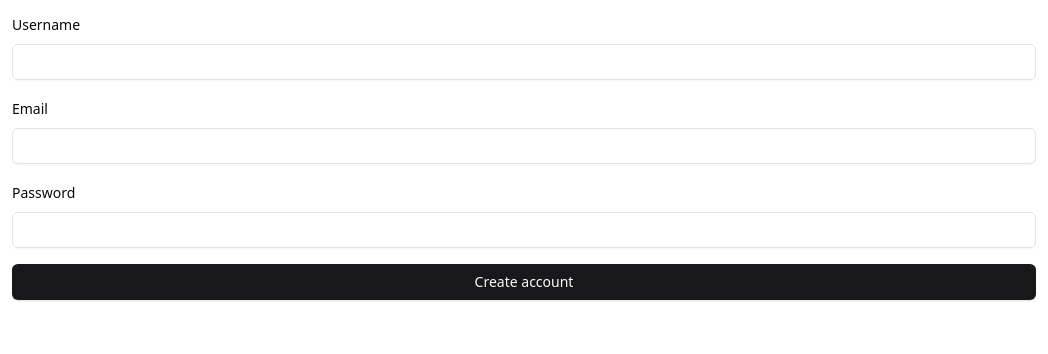
RegisterForm › shows the API error when the username is taken
Step 1. Type "taken-user" into the field labelled "Username" → point(524, 62), box 12,44 -> 1036,80
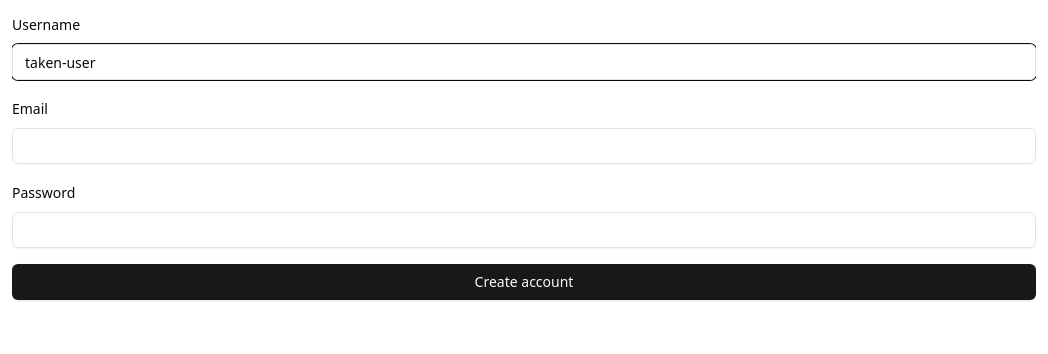
Step 2. Type "new@example.com" into the field labelled "Email" → point(524, 146), box 12,128 -> 1036,164
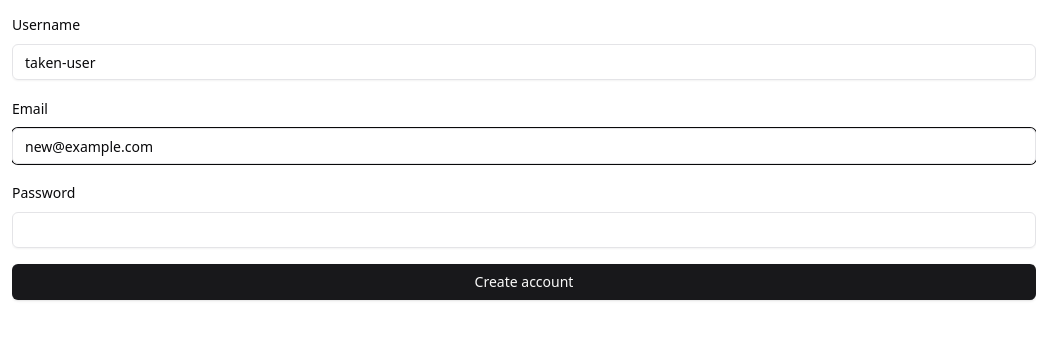
Step 3. Type "password-123" into the password field labelled "Password" → point(524, 230), box 12,212 -> 1036,248
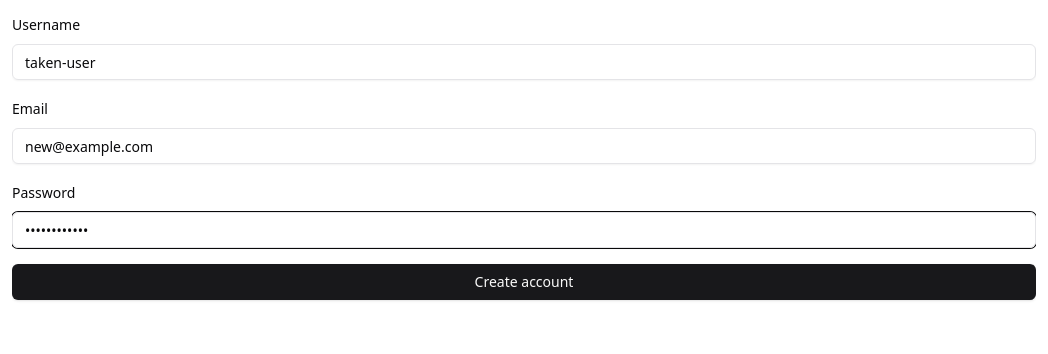
Step 4. Click the button "Create account" → point(524, 282), box 12,264 -> 1036,300
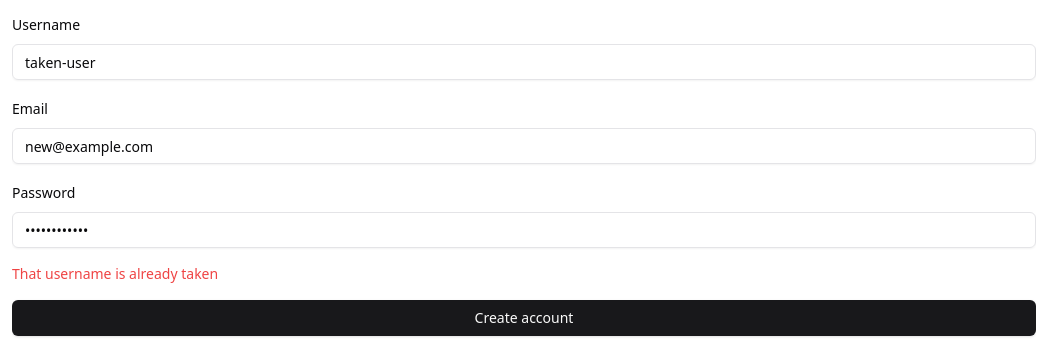
Result: the text "That username is already taken" is shown at 12,264 -> 218,283
